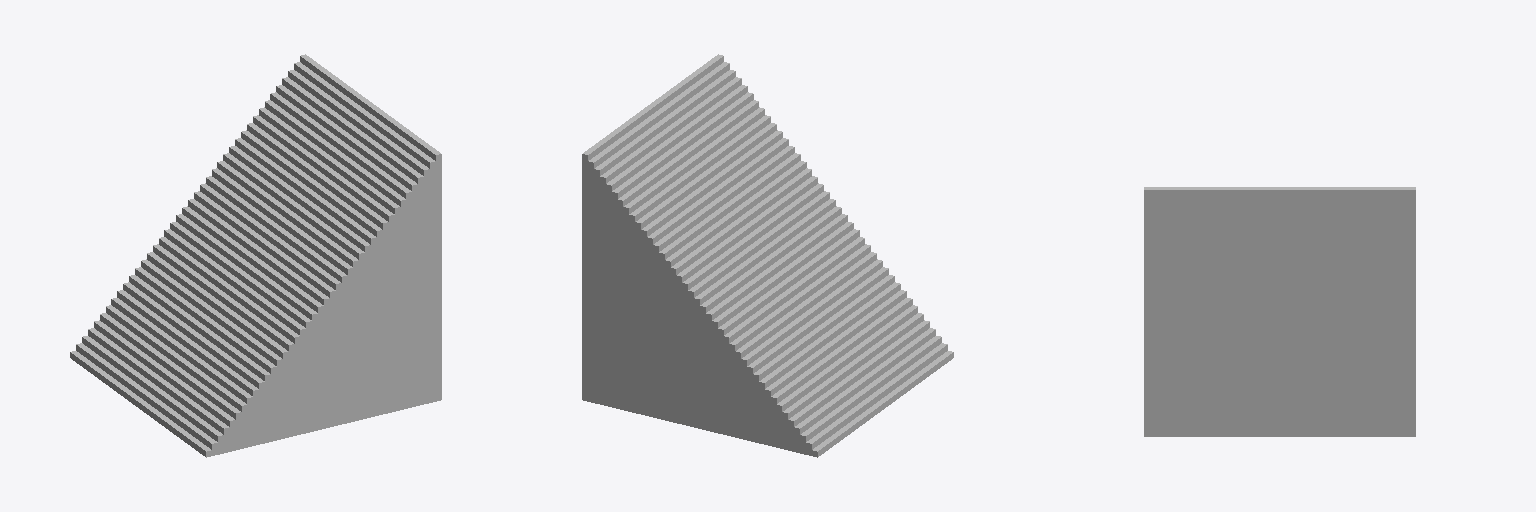
Rendered from Stairs1.obj.
3 renders of one model, left to right at view 1: azimuth 30°, elevation 25°; view 2: azimuth 150°, elevation 25°; view 3: azimuth 270°, elevation 25°, orthographic.
Parts seen in each view (by area): view 1: object 1; view 2: object 1; view 3: object 1.
Part boxes in pixels (x1,y1,x2,y2): object 1: (70, 54, 441, 457); object 1: (582, 54, 953, 457); object 1: (1144, 187, 1415, 436).
Bounding box in the file's own units: 4 × 4 × 4.